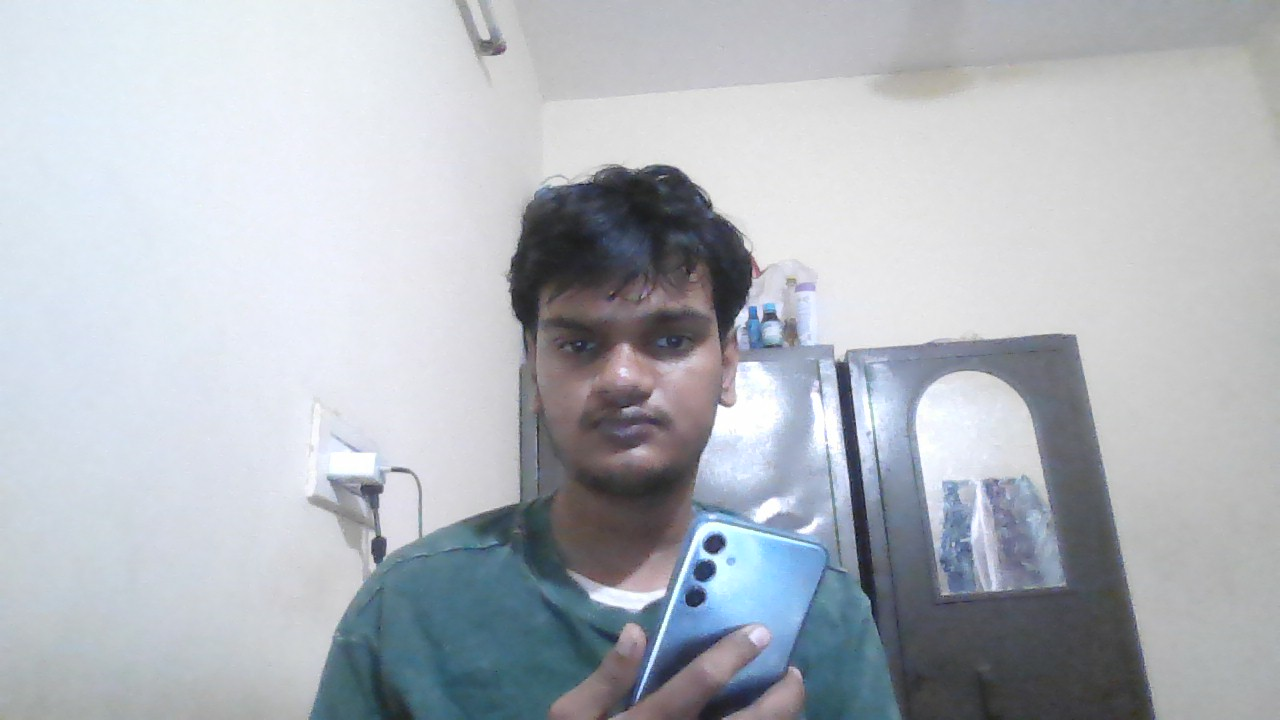phone: (676, 513, 823, 655)
